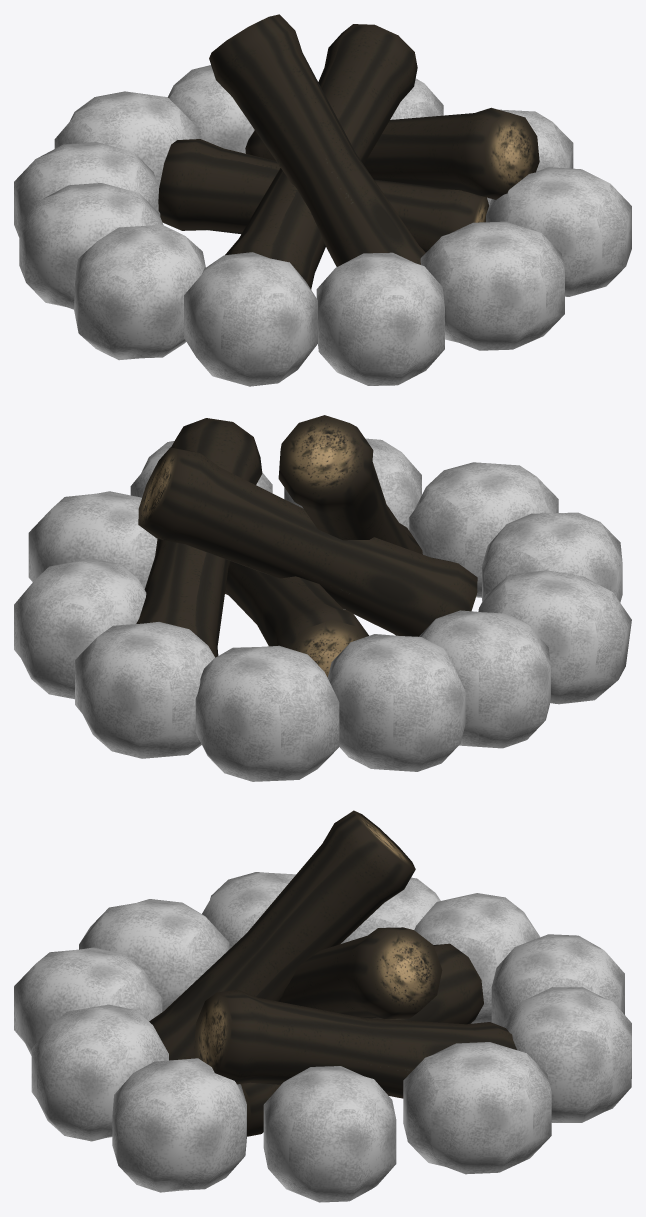
The model's file is hoguera.fbx.
3 views of the same model, one above another, from view 1: azimuth 30°, elevation 25°; view 2: azimuth 150°, elevation 25°; view 3: azimuth 270°, elevation 25° (orthographic). The views are drawn at different scales.
Visible parts, largest first — view 1: pCylinder4, pCube10, pCube5, pCube6, pCylinder2, pCube7, pCylinder1, pCylinder3, pCube4, pCube11, pCube9, pCube8 (+3 smaller); view 2: pCylinder2, pCube9, pCube8, pCube1, pCube11, pCube7, pCube2, pCylinder4, pCube6, pCylinder3, pCube10, pCube3 (+3 smaller); view 3: pCylinder4, pCylinder3, pCube2, pCube4, pCube3, pCube5, pCube1, pCylinder2, pCube10, pCube6, pCube9, pCube8 (+3 smaller).
Boxes of the visible parts, x1,y1,x2,y2 form: pCylinder4: [209, 14, 425, 266]; pCube10: [184, 252, 317, 386]; pCube5: [420, 221, 564, 350]; pCube6: [316, 252, 444, 385]; pCylinder2: [225, 24, 417, 289]; pCube7: [74, 225, 205, 360]; pCylinder1: [158, 139, 488, 252]; pCylinder3: [245, 107, 539, 199]; pCube4: [486, 167, 631, 296]; pCube11: [19, 183, 163, 309]; pCube9: [54, 91, 200, 186]; pCube8: [14, 142, 160, 237]; pCylinder2: [138, 447, 477, 636]; pCube9: [195, 645, 339, 781]; pCube8: [327, 634, 465, 771]; pCube1: [75, 622, 215, 758]; pCube11: [419, 610, 550, 748]; pCube7: [478, 570, 631, 704]; pCube2: [14, 558, 146, 699]; pCylinder4: [278, 415, 422, 554]; pCube6: [409, 462, 558, 597]; pCylinder3: [136, 418, 262, 657]; pCube10: [482, 512, 622, 602]; pCube3: [28, 491, 157, 589]; pCylinder4: [149, 810, 415, 1060]; pCylinder3: [193, 989, 516, 1098]; pCube2: [403, 1042, 551, 1174]; pCube4: [112, 1058, 246, 1192]; pCube3: [263, 1066, 396, 1202]; pCube5: [31, 1004, 168, 1141]; pCube1: [503, 987, 631, 1122]; pCylinder2: [280, 927, 442, 1018]; pCube10: [79, 899, 229, 1011]; pCube6: [14, 947, 162, 1055]; pCube9: [491, 934, 624, 1026]; pCube8: [414, 893, 539, 1023].
Bounding box in the file's own units: 13.97 × 6.63 × 14.05.
1 material, 1 textured.
